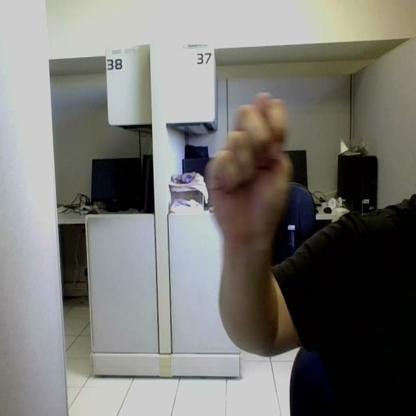T: (211, 94, 290, 238)
